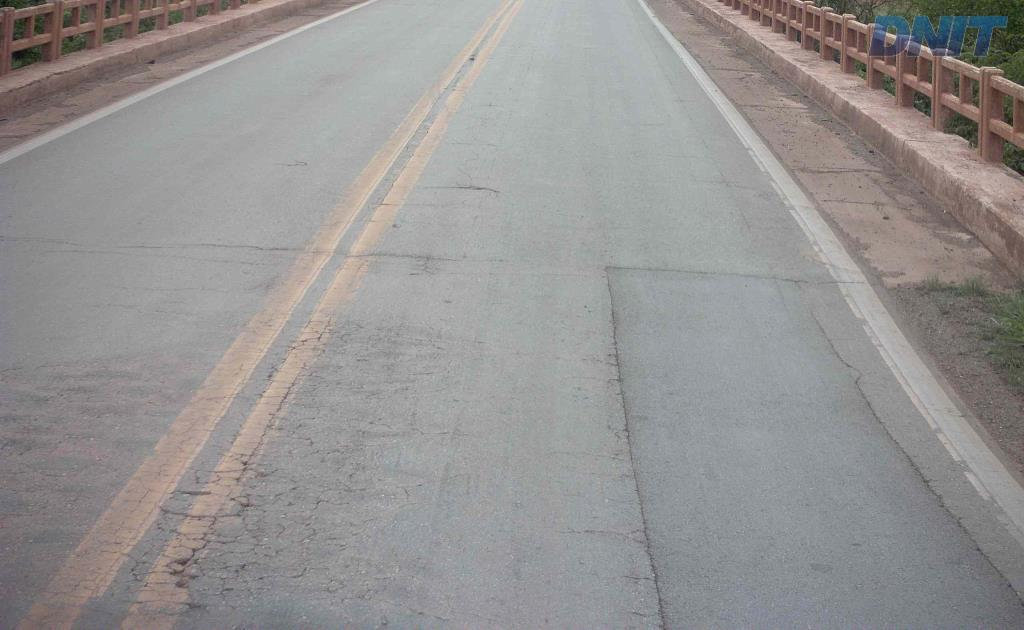crack: (607, 279, 685, 629)
